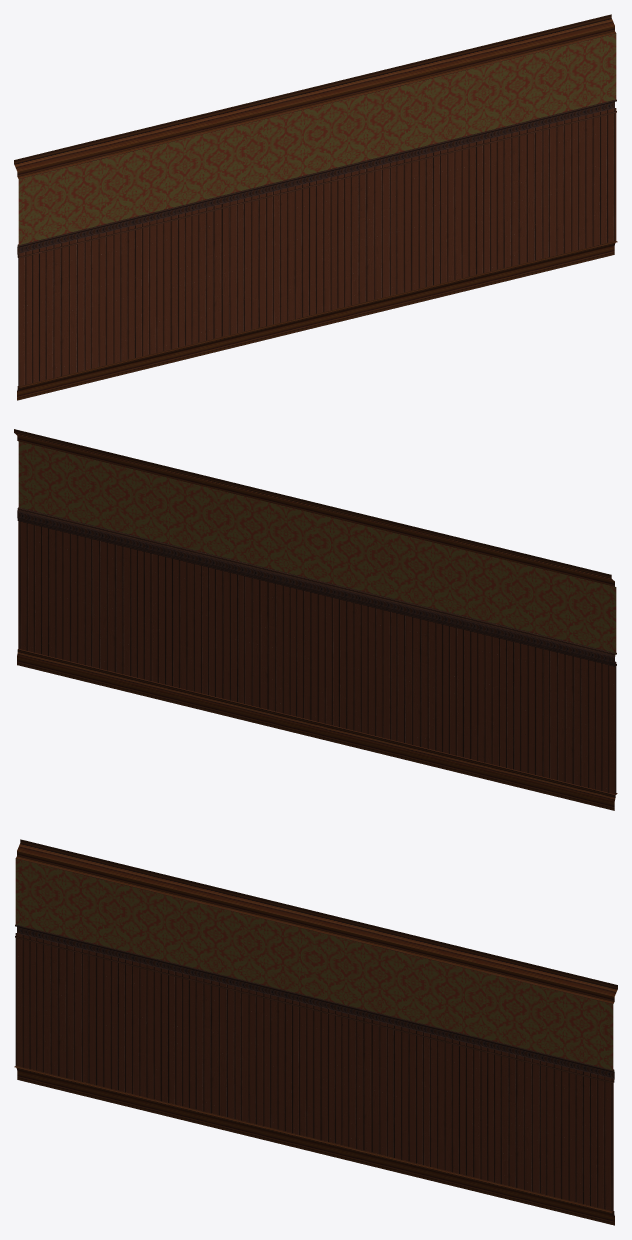
Rendered from Wall2LONG.fbx.
3 views of the same model, one above another, from view 1: azimuth 30°, elevation 25°; view 2: azimuth 150°, elevation 25°; view 3: azimuth 330°, elevation 25° (orthographic).
Visible parts, largest first — view 1: WallSection2Long; view 2: WallSection2Long; view 3: WallSection2Long.
Part boxes in pixels (x1,y1,x2,y2): WallSection2Long: [14, 14, 617, 400]; WallSection2Long: [14, 429, 617, 810]; WallSection2Long: [14, 839, 617, 1225].
Size of the model in its own units: 739 by 281 by 13.47.
